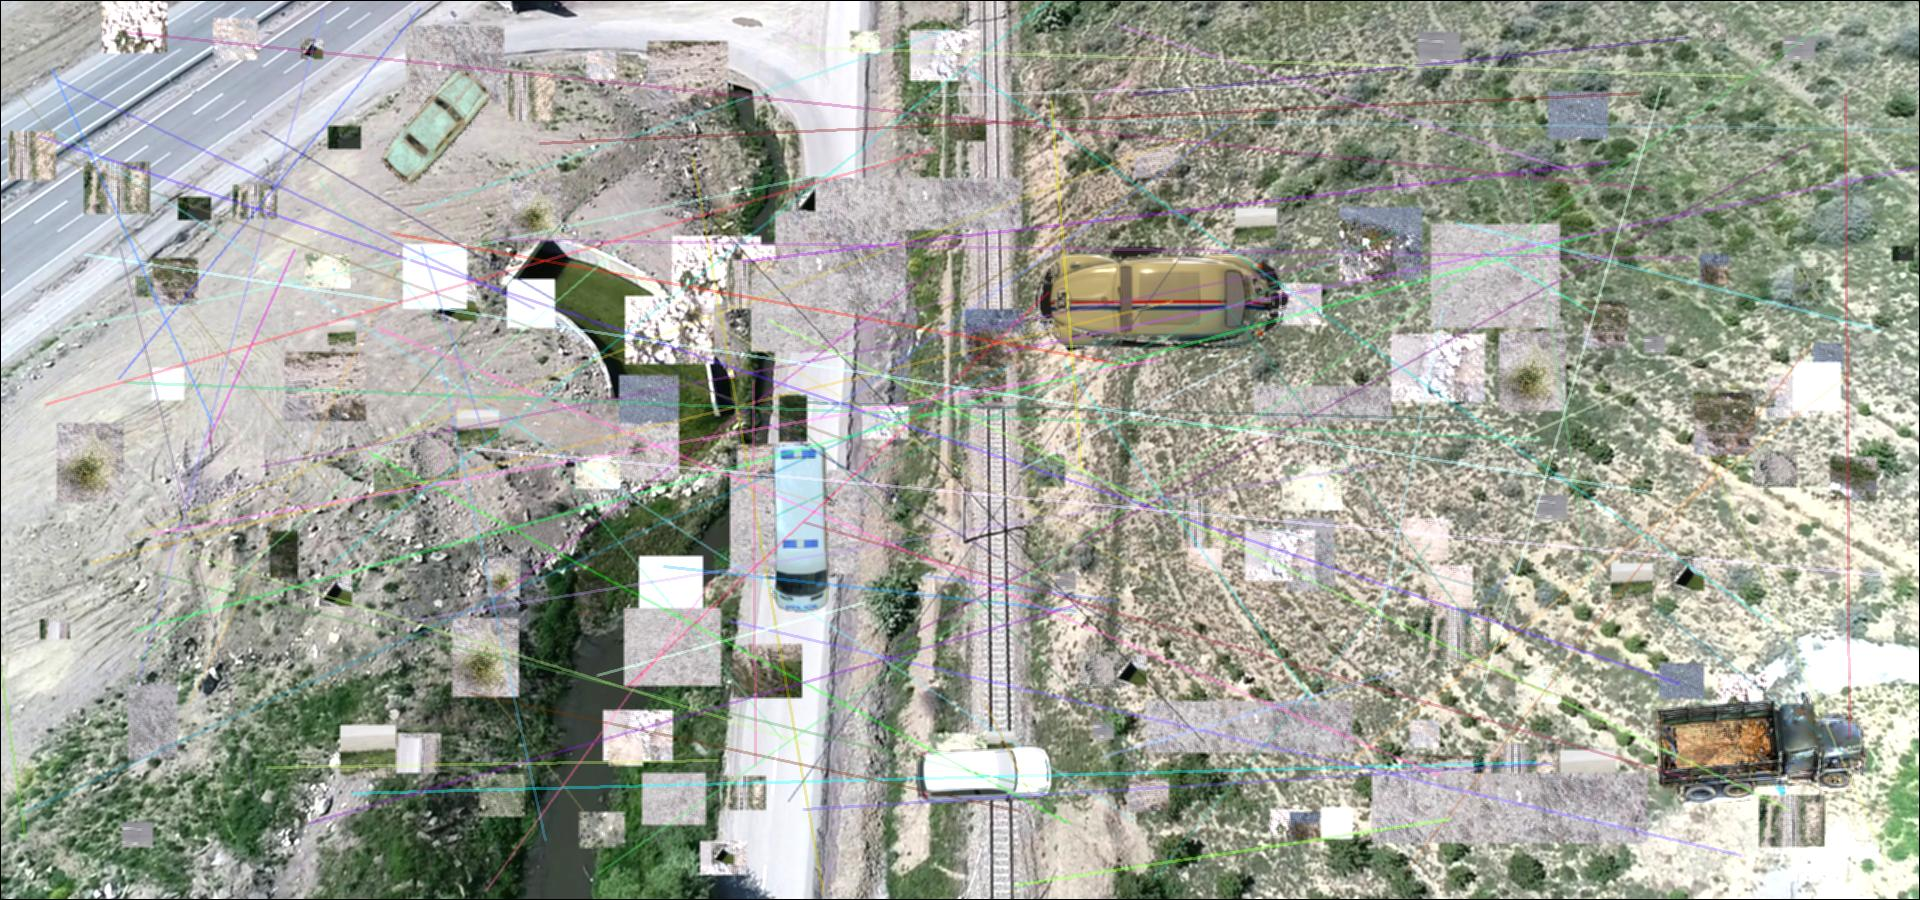arac: (1032, 245, 1293, 356), (1653, 692, 1867, 802), (767, 442, 841, 613), (381, 71, 490, 186), (913, 738, 1053, 804)
